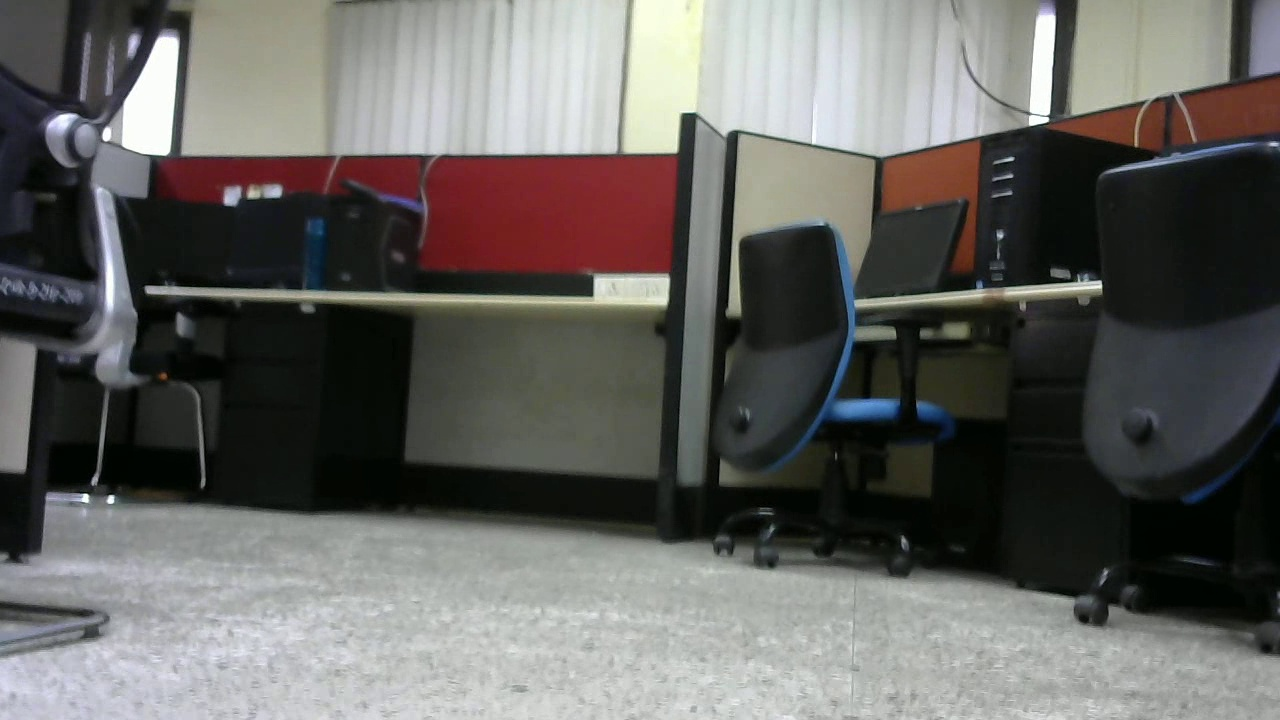chair: (708, 220, 965, 584)
